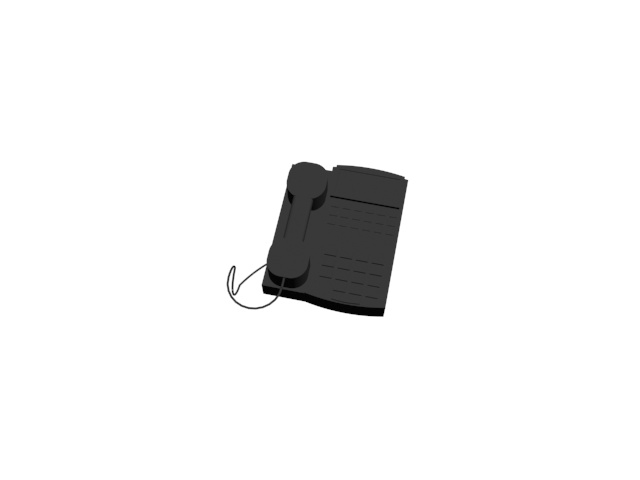phone: (225, 161, 416, 320)
